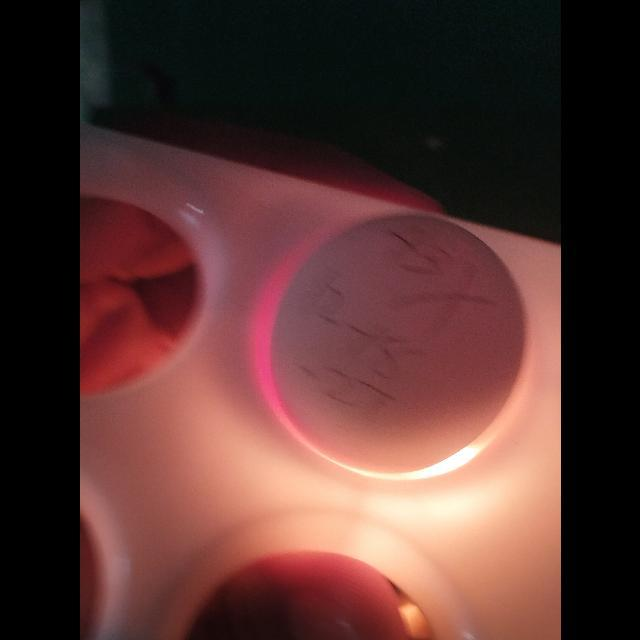Fertile: (263, 208, 532, 476)
